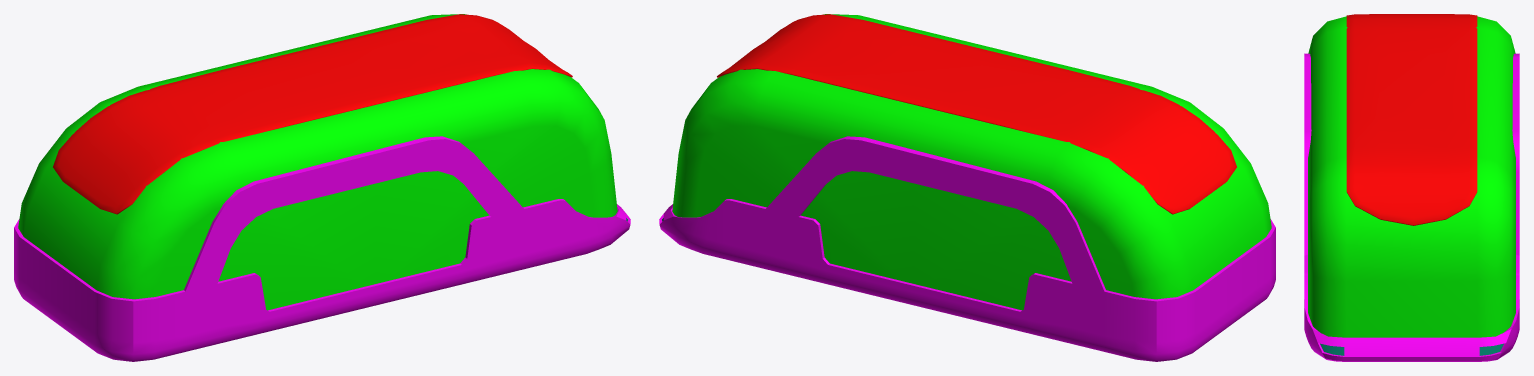
Rendered from SM_Bus.fbx.
3 renders of one model, left to right at view 1: azimuth 30°, elevation 25°; view 2: azimuth 150°, elevation 25°; view 3: azimuth 270°, elevation 25°, orthographic. The views are drawn at different scales.
Parts seen in each view (by area): view 1: SM_Bus; view 2: SM_Bus; view 3: SM_Bus.
Part boxes in pixels (left/top/right/bottom): SM_Bus: left=14, top=14, right=630, bottom=361; SM_Bus: left=659, top=14, right=1275, bottom=361; SM_Bus: left=1304, top=14, right=1519, bottom=361.
Size of the model in its own units: 9.71 by 3.24 by 3.79.
